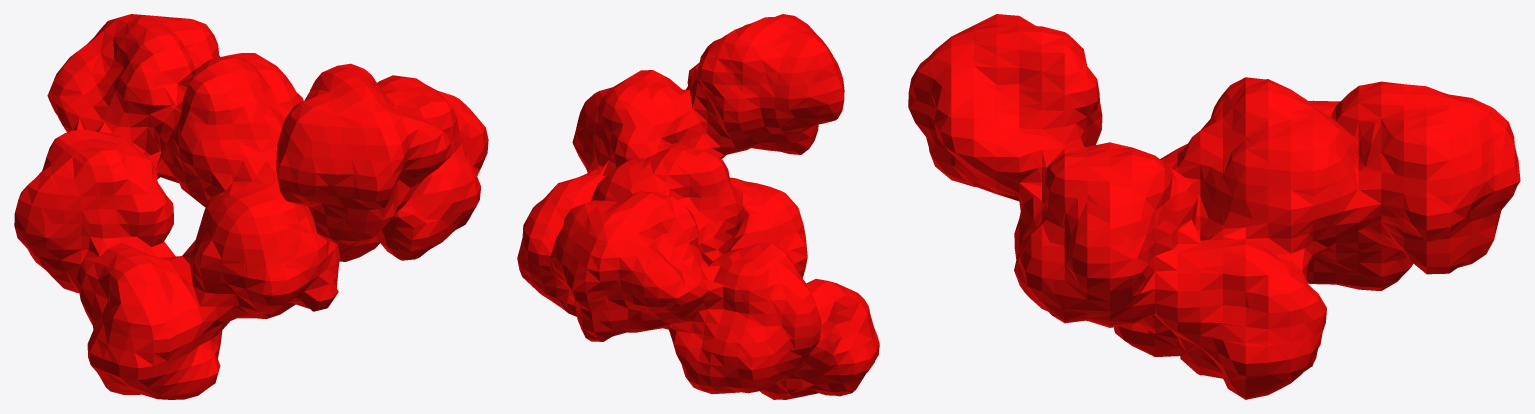
File: Protein_disulfide_isomerase_Pr_coarse.dae
3 renders of one model, left to right at view 1: azimuth 30°, elevation 25°; view 2: azimuth 150°, elevation 25°; view 3: azimuth 270°, elevation 25°, orthographic. The views are drawn at different scales.
Visible parts, largest first — view 1: Protein_disulfide_isomerase_Pr; view 2: Protein_disulfide_isomerase_Pr; view 3: Protein_disulfide_isomerase_Pr.
Part boxes in pixels (left/top/right/bottom): Protein_disulfide_isomerase_Pr: left=14, top=14, right=488, bottom=399; Protein_disulfide_isomerase_Pr: left=517, top=14, right=879, bottom=399; Protein_disulfide_isomerase_Pr: left=908, top=14, right=1520, bottom=399.
Size of the model in its own units: 96.13 by 83.94 by 122.
